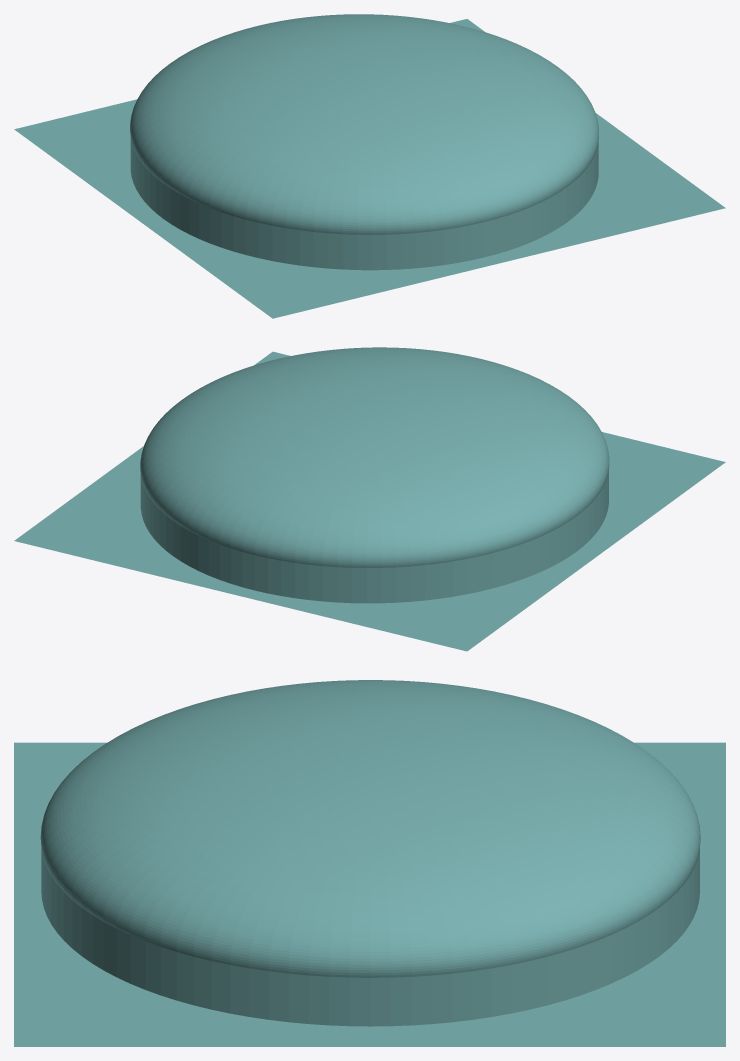
The model's file is salleCylindreV2.fbx.
The picture shows the model from 3 angles, top to bottom: view 1: azimuth 30°, elevation 25°; view 2: azimuth 150°, elevation 25°; view 3: azimuth 270°, elevation 25°; orthographic projection. The views are drawn at different scales.
Parts seen in each view (by area): view 1: Plane; view 2: Plane; view 3: Plane.
Boxes of the visible parts, x1,y1,x2,y2 form: Plane: (14, 14, 725, 318); Plane: (14, 347, 725, 651); Plane: (14, 680, 725, 1046).
Size of the model in its own units: 8055 by 1724 by 7967.
